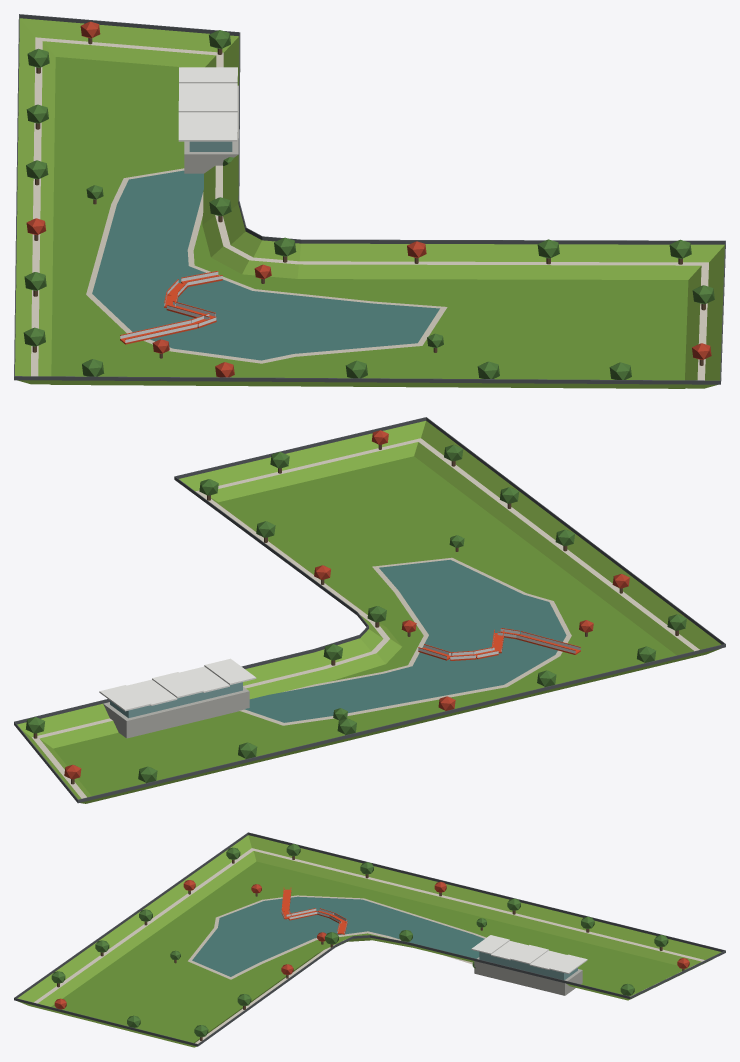
File: maple-garden.glb
The picture shows the model from 3 angles, top to bottom: view 1: azimuth 30°, elevation 25°; view 2: azimuth 150°, elevation 25°; view 3: azimuth 270°, elevation 25°; orthographic projection. The views are drawn at different scales.
Visible parts, largest first — view 1: maple-garden; view 2: maple-garden; view 3: maple-garden.
Part boxes in pixels (left/top/right/bottom): maple-garden: left=14, top=14, right=725, bottom=388; maple-garden: left=14, top=417, right=725, bottom=803; maple-garden: left=14, top=832, right=725, bottom=1047.
Bounding box in the file's own units: 210 × 11 × 298.
